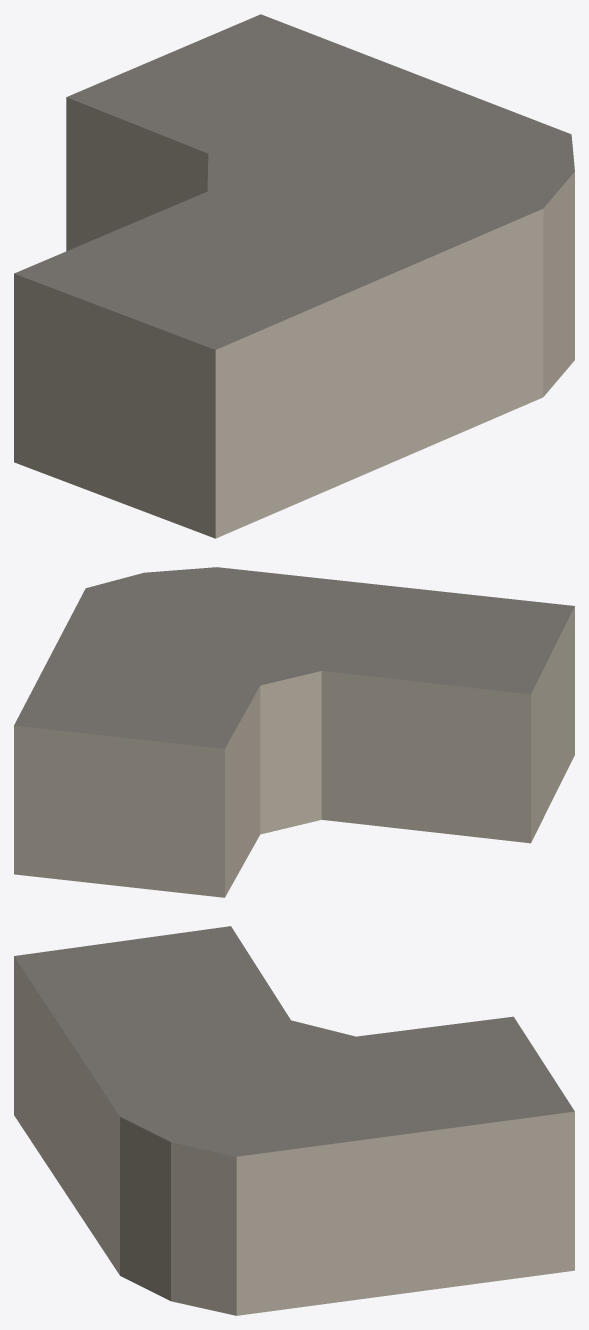
The picture shows the model from 3 angles, top to bottom: view 1: azimuth 30°, elevation 25°; view 2: azimuth 150°, elevation 25°; view 3: azimuth 270°, elevation 25°; orthographic projection. The views are drawn at different scales.
Visible parts, largest first — view 1: HP-w303314587; view 2: HP-w303314587; view 3: HP-w303314587.
Part boxes in pixels (bbox=[...]): HP-w303314587: bbox=[14, 14, 574, 538]; HP-w303314587: bbox=[14, 567, 574, 897]; HP-w303314587: bbox=[14, 926, 574, 1315].
Bounding box in the file's own units: 37.32 × 12 × 38.35.
